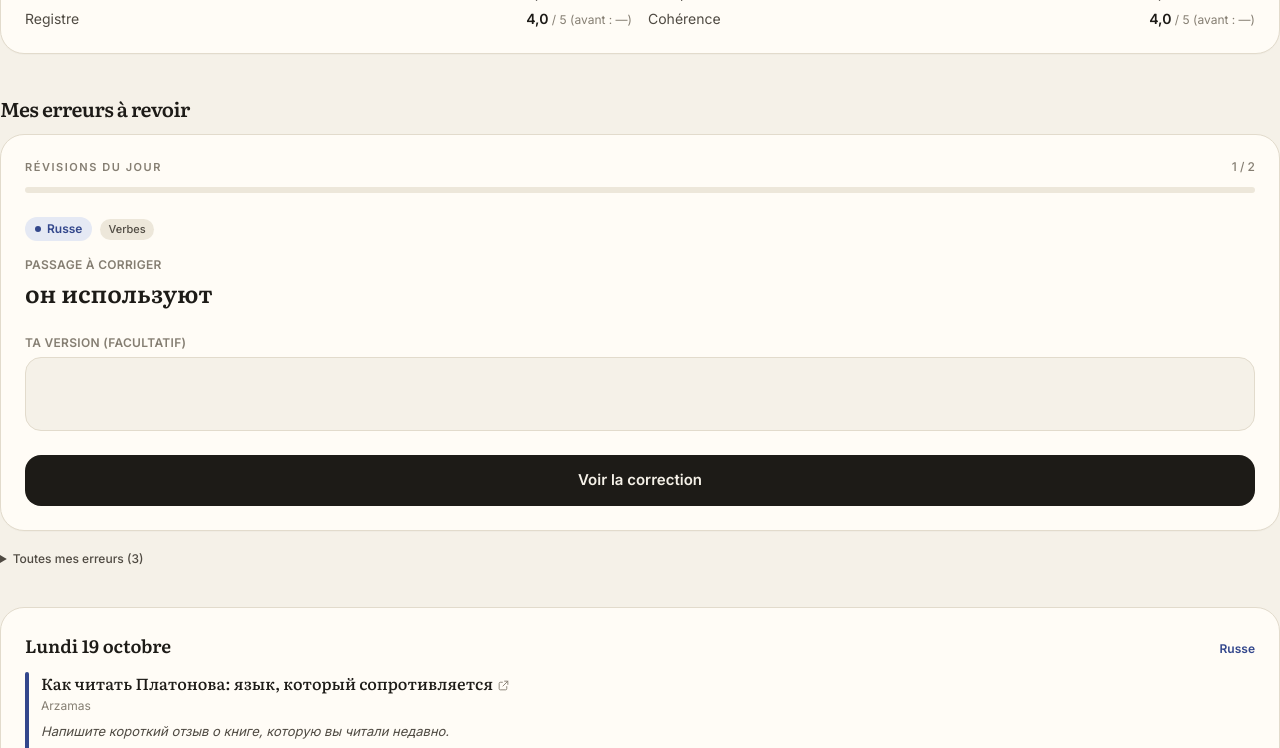
Test: error review session › runs the due cards: reveal the correction, grade, finish
(page scrolled)
Expected: the text "1 / 2" is shown, [1232,159,1255,175]
Expected: the text "Passage à corriger" is shown, [25,258,162,272]
In the text box labelled "Ta version (facultatif)": (640, 394) [25,358,1255,432], type "он использует"
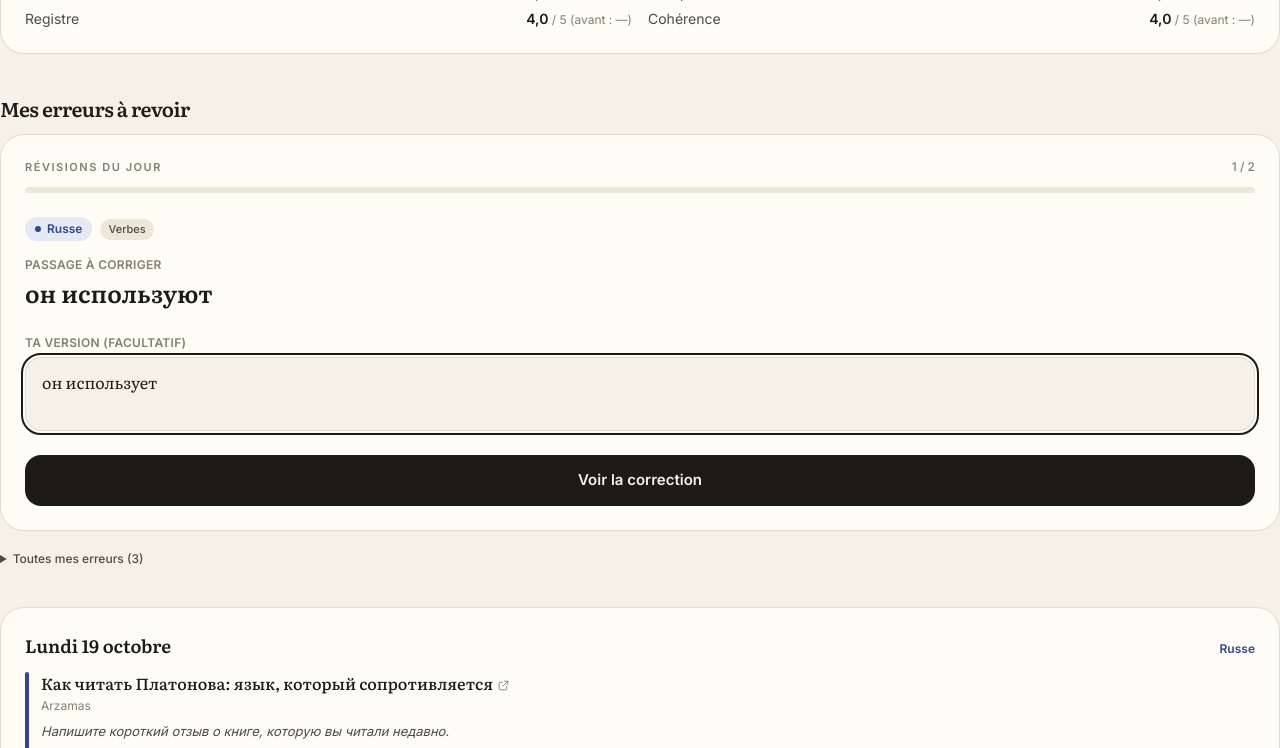
Click the button "Voir la correction": (640, 481) [25,456,1255,506]
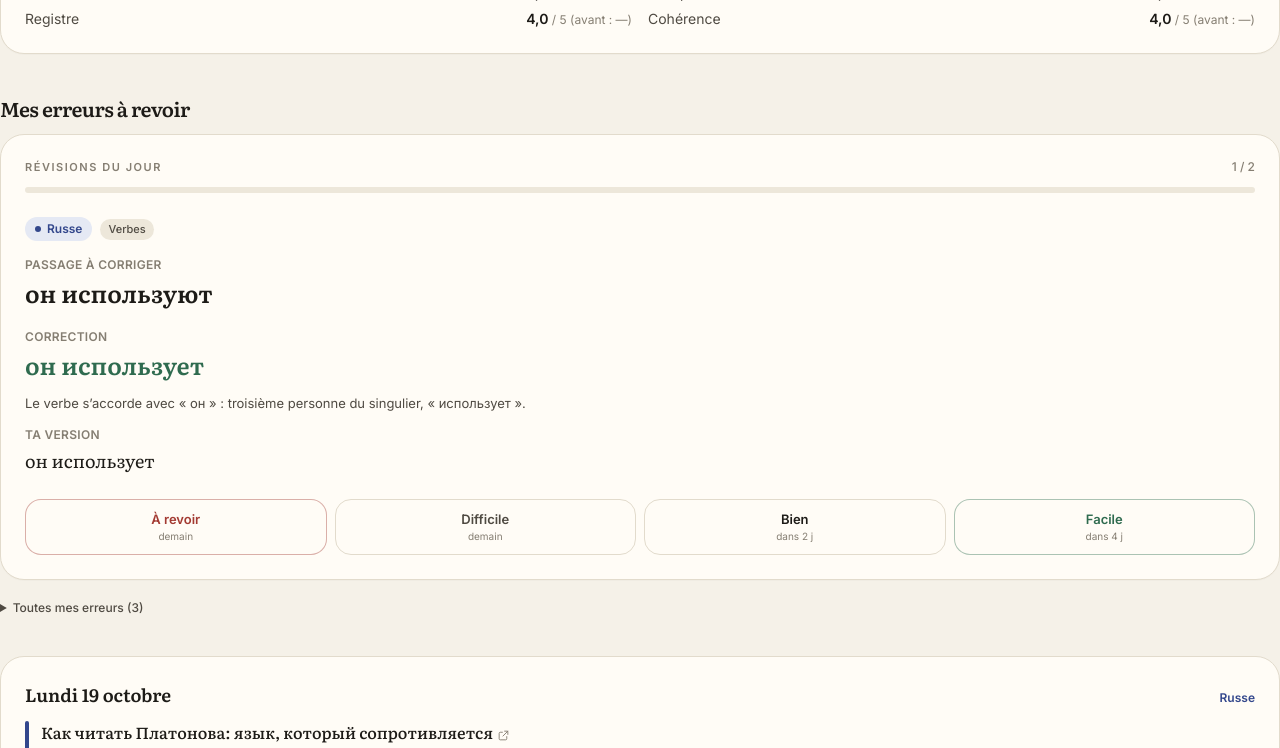
Expected: the text "Correction" is shown, [25,330,107,344]
Expected: the button "À revoir demain" is shown, [25,499,326,555]
Click the button "Bien dans 2 j": (795, 527) [644,499,946,555]
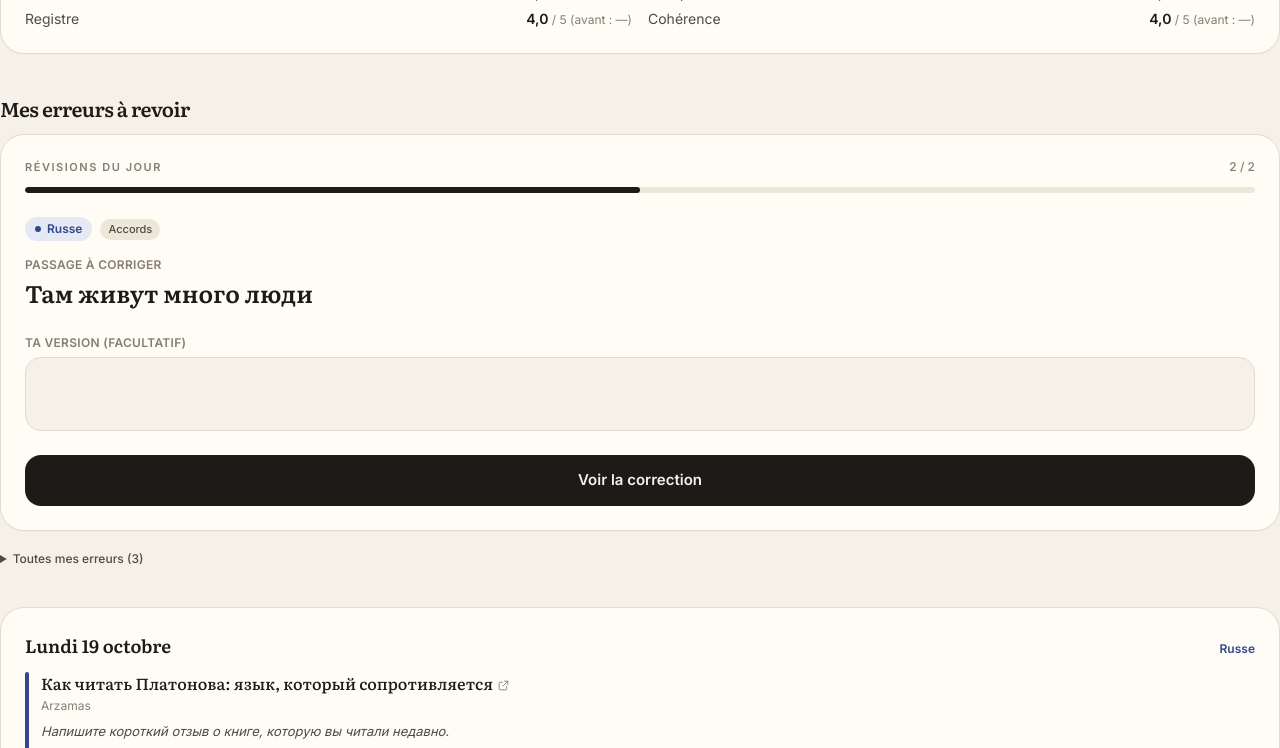
Expected: the text "2 / 2" is shown, [1229,159,1255,175]
Click the button "Voir la correction": (640, 481) [25,456,1255,506]
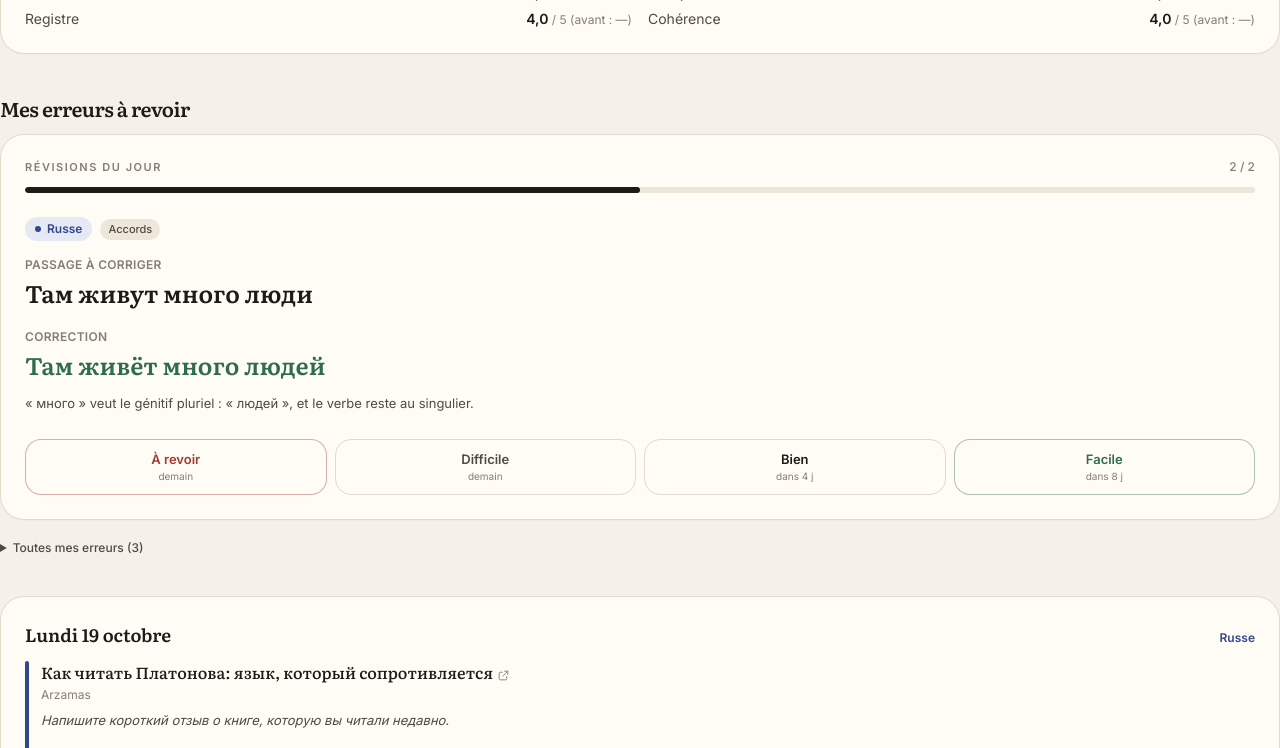
Click the button "Facile dans 8 j": (1104, 467) [954,439,1255,495]
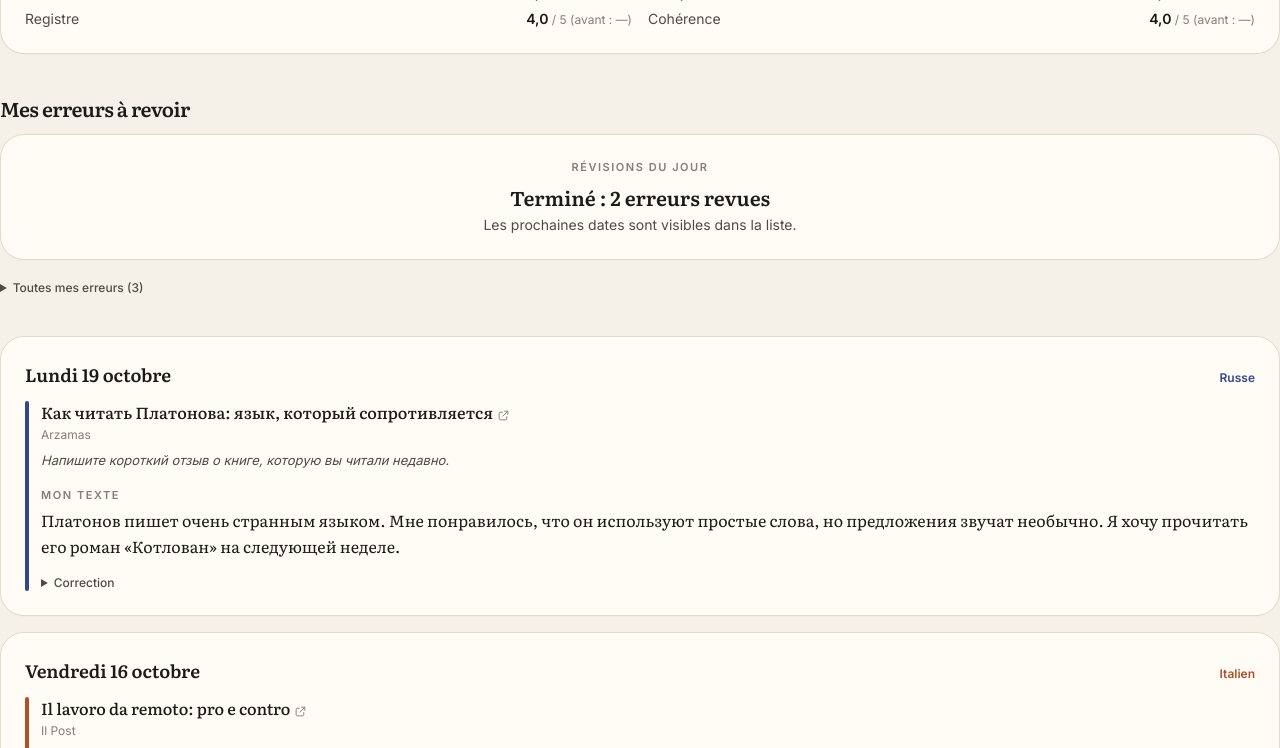
Expected: the text "Terminé : 2 erreurs revues" is shown, [510,182,770,212]
